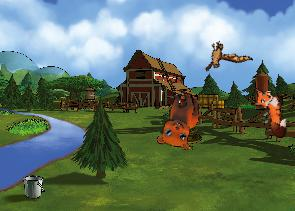bear: (156, 90, 199, 150)
eagle: (195, 29, 253, 84)
fox: (249, 85, 288, 139)
